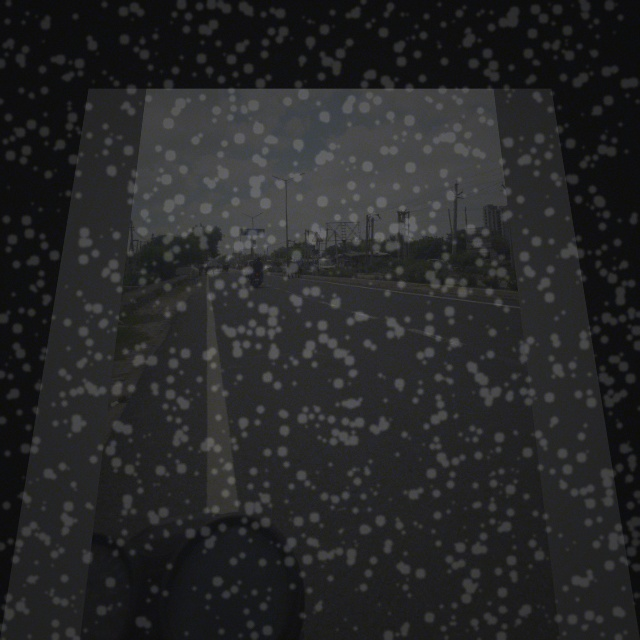Gap_in_Median: (309, 230, 325, 244)
